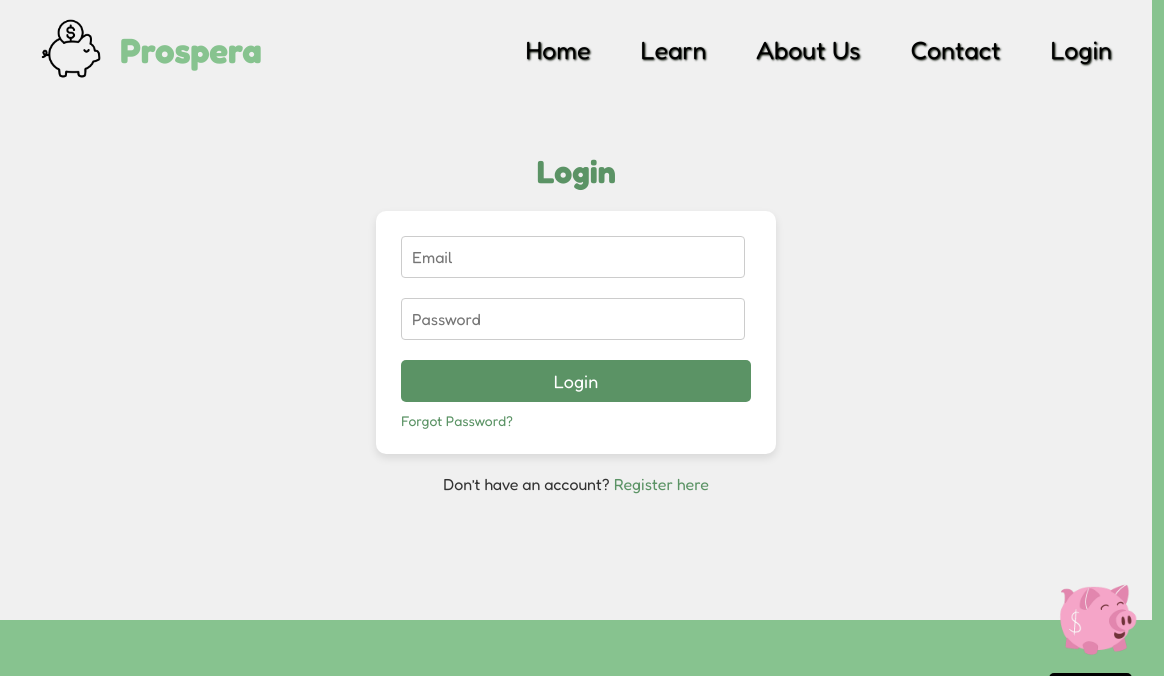
it: Login Page › should show validation errors for empty fields
This screenshot has width=1164, height=676.
Click the submit button: (576, 381) [401,360,751,402]
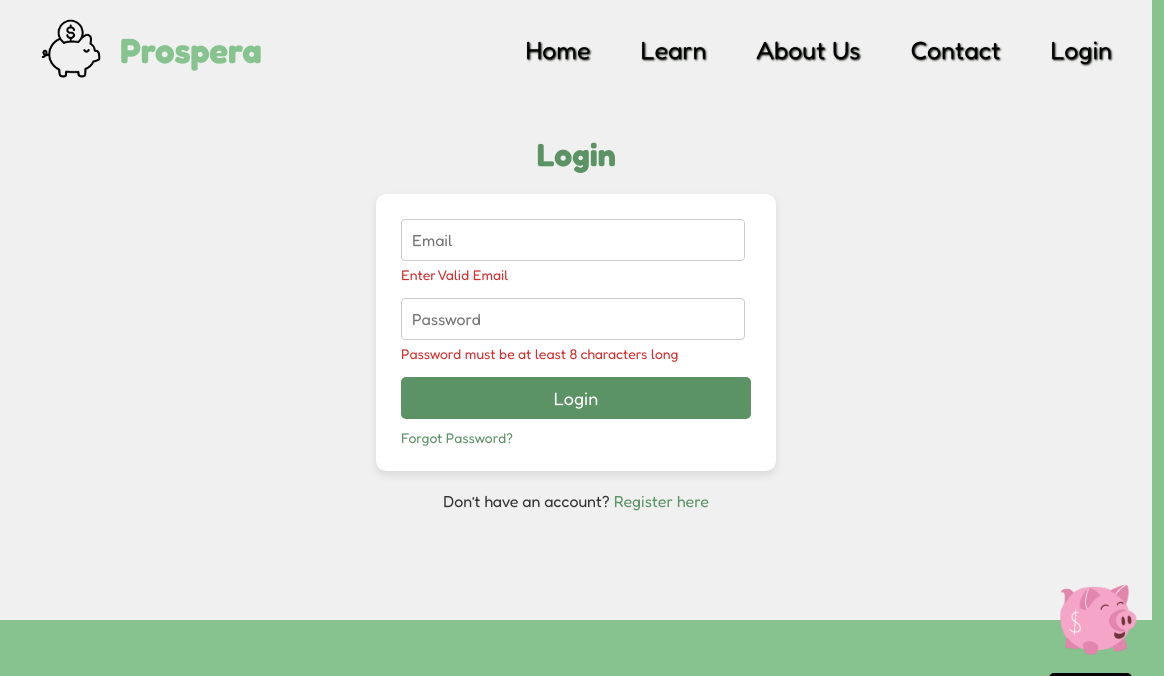
Result: the text "Enter Valid Email" is shown at [401,266,508,283]
Result: the text "Password must be at least 8 characters long" is shown at [401,345,678,362]
